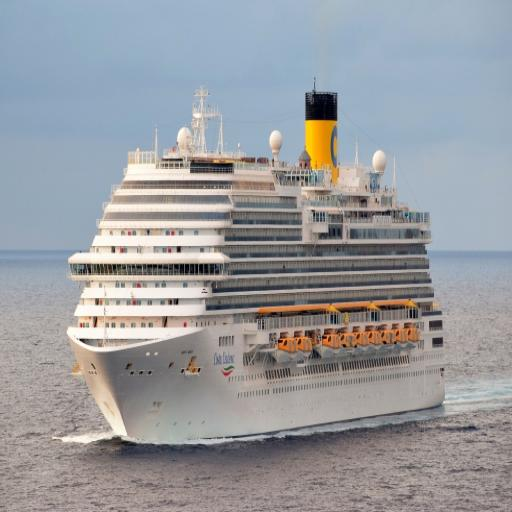cruises: (61, 84, 451, 438)
